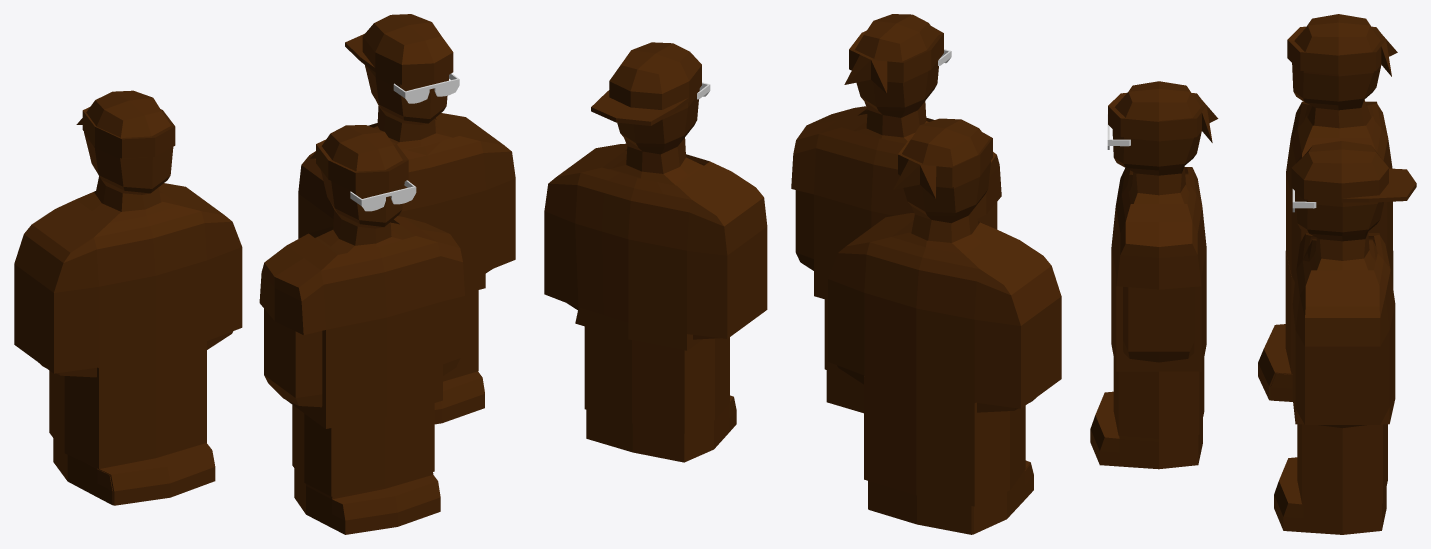
File: lva.fbx
3 views of the same model, side by side, from view 1: azimuth 30°, elevation 25°; view 2: azimuth 150°, elevation 25°; view 3: azimuth 270°, elevation 25° (orthographic). The views are drawn at different scales.
Visible parts, largest first — view 1: torso.002, torso, shorts.001, torso.001, skin, shorts, skin.001, boots, skin.003, boots.001, skin.002, bandan.002 (+3 smaller); view 2: torso.002, torso.001, shorts.001, torso, shorts.002, skin.001, skin, skin.003, skin.002, boots.002, boots.001, bandan.002 (+2 smaller); view 3: torso.001, skin, torso, skin.001, shorts.002, shorts, skin.003, skin.002, torso.002, boots, boots.002, bandan.002 (+3 smaller).
Part boxes in pixels (box(x1,y1,x2,y2)): torso.002: box(14, 183, 242, 373); torso: box(259, 216, 464, 428); shorts.001: box(49, 342, 206, 468); torso.001: box(298, 113, 515, 293); skin: box(264, 125, 460, 407); shorts: box(292, 403, 434, 496); skin.001: box(38, 90, 232, 505); boots: box(294, 468, 440, 534); skin.003: box(345, 14, 453, 84); boots.001: box(98, 443, 215, 505); skin.002: box(365, 65, 491, 273); bandan.002: box(310, 139, 408, 192); torso.002: box(828, 213, 1061, 408); torso.001: box(544, 143, 767, 350); shorts.001: box(864, 376, 1025, 506); torso: box(791, 106, 1001, 299); shorts.002: box(584, 326, 729, 433); skin.001: box(837, 118, 1036, 534); skin: box(795, 14, 997, 270); skin.003: box(591, 42, 701, 125); skin.002: box(567, 89, 719, 339); boots.002: box(586, 395, 736, 462); boots.001: box(868, 460, 1033, 534); bandan.002: box(844, 26, 943, 93); torso.001: box(1292, 233, 1395, 424); skin: box(1112, 81, 1201, 362); torso: box(1111, 167, 1206, 371); skin.001: box(1270, 14, 1381, 401); shorts.002: box(1297, 424, 1387, 507); shorts: box(1113, 357, 1204, 438); skin.003: box(1291, 141, 1416, 202); skin.002: box(1296, 192, 1384, 428); torso.002: box(1286, 101, 1392, 281); boots: box(1090, 391, 1202, 469); boots.002: box(1274, 457, 1386, 534); bandan.002: box(1108, 93, 1218, 142).
Size of the model in its own units: 297 by 228 by 187.
